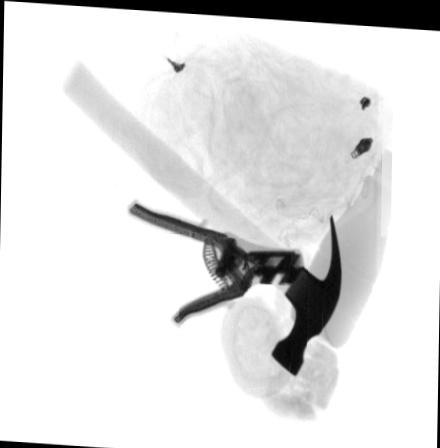Hammer: (60, 59, 342, 374)
Pliers: (125, 200, 304, 325)
